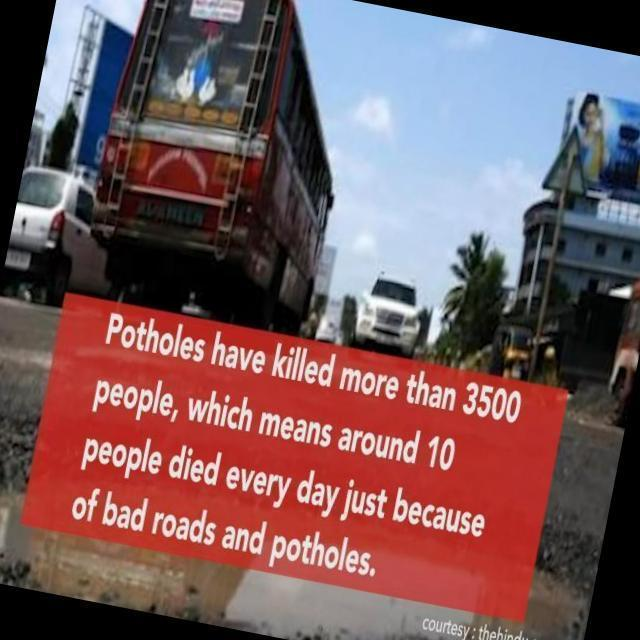pothole: (0, 474, 596, 640)
